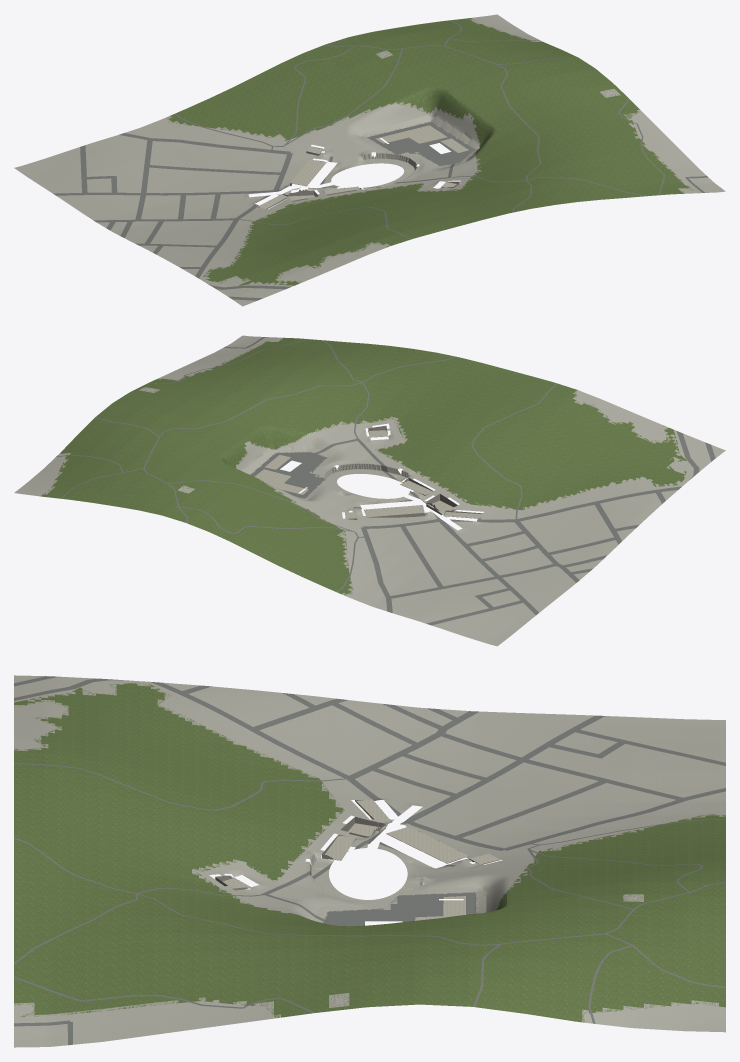
3 views of the same model, one above another, from view 1: azimuth 30°, elevation 25°; view 2: azimuth 150°, elevation 25°; view 3: azimuth 270°, elevation 25° (orthographic). The views are drawn at different scales.
Visible parts, largest first — view 1: gangseo-wood, gangseo-base, gangseo-asphalt, building-floor-cap, gangseo-wood-overlay; view 2: gangseo-wood, gangseo-base, gangseo-asphalt, building-floor-cap, gangseo-wood-overlay, holton__exteriorFoundationClosure; view 3: gangseo-wood, gangseo-base, gangseo-asphalt, building-floor-cap, gangseo-wood-overlay, holton__exteriorFoundationClosure.
Part boxes in pixels (x1=…): gangseo-wood: x1=169, y1=18, x2=688, y2=285; gangseo-base: x1=14, y1=14, x2=725, y2=306; gangseo-asphalt: x1=53, y1=20, x2=707, y2=300; building-floor-cap: x1=258, y1=125, x2=468, y2=208; gangseo-wood-overlay: x1=167, y1=19, x2=693, y2=284; gangseo-wood: x1=41, y1=337, x2=686, y2=594; gangseo-base: x1=14, y1=335, x2=725, y2=646; gangseo-asphalt: x1=56, y1=337, x2=715, y2=625; building-floor-cap: x1=254, y1=430, x2=483, y2=518; gangseo-wood-overlay: x1=44, y1=338, x2=686, y2=595; holton__exteriorFoundationClosure: x1=305, y1=425, x2=483, y2=519; gangseo-wood: x1=14, y1=683, x2=725, y2=1022; gangseo-base: x1=14, y1=675, x2=725, y2=1047; gangseo-asphalt: x1=14, y1=676, x2=725, y2=1045; building-floor-cap: x1=222, y1=799, x2=499, y2=920; gangseo-wood-overlay: x1=14, y1=683, x2=725, y2=1022; holton__exteriorFoundationClosure: x1=215, y1=800, x2=500, y2=917.
Bounding box in the file's own units: 508 × 57.39 × 416.
Materials: 10 (9 with a texture image).
